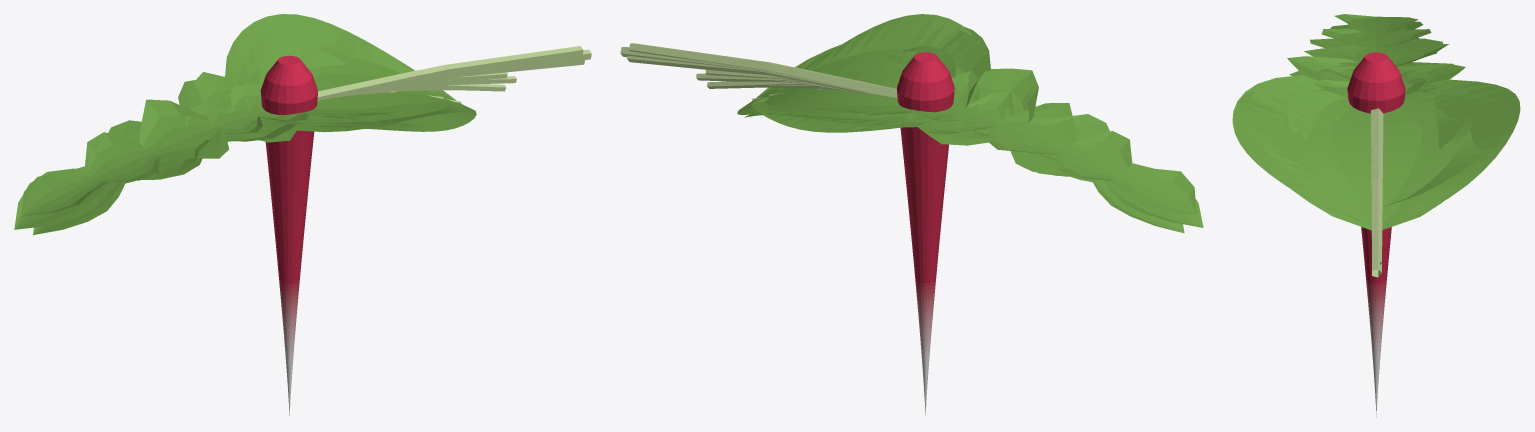
The model's file is radish_harvest_v09.articulated.glb.
The picture shows the model from 3 angles, left to right: view 1: azimuth 30°, elevation 25°; view 2: azimuth 150°, elevation 25°; view 3: azimuth 270°, elevation 25°; orthographic projection.
Parts seen in each view (by area): view 1: leaf05_link2, root, leaf00_link2, leaf02_link2, leaf04_link2, leaf00_link0, leaf01_link2, leaf05_link0, leaf03_link2, leaf01_link0, leaf02_link1, leaf02_link0 (+1 smaller); view 2: leaf05_link2, root, leaf00_link2, leaf02_link2, leaf04_link2, leaf01_link2, leaf05_link0, leaf01_link0, leaf02_link0, leaf02_link1, leaf00_link0, leaf03_link2; view 3: leaf05_link2, leaf00_link2, root, leaf02_link2, leaf01_link2, leaf04_link2, leaf05_link0, leaf03_link2, leaf01_link0.
Part boxes in pixels (x1,y1,x2,y2): leaf05_link2: (21,35,460,216); root: (260,55,317,415); leaf00_link2: (14,14,476,229); leaf02_link2: (33,22,424,234); leaf04_link2: (202,41,375,134); leaf00_link0: (317,49,591,100); leaf01_link2: (186,48,395,141); leaf05_link0: (319,46,583,97); leaf03_link2: (125,73,391,183); leaf01_link0: (317,69,426,97); leaf02_link1: (376,84,506,93); leaf02_link0: (370,60,584,93); leaf05_link2: (751,14,1196,214); root: (897,52,954,415); leaf00_link2: (737,26,1203,227); leaf02_link2: (744,30,1184,233); leaf04_link2: (799,49,1056,162); leaf01_link2: (804,46,1056,160); leaf05_link0: (629,43,885,96); leaf01_link0: (696,60,897,98); leaf02_link0: (627,55,875,94); leaf02_link1: (707,81,848,90); leaf00_link0: (620,47,879,95); leaf03_link2: (855,51,1092,182); leaf05_link2: (1239,14,1488,207); leaf00_link2: (1232,21,1520,224); root: (1347,52,1405,417); leaf02_link2: (1244,38,1508,230); leaf01_link2: (1287,61,1464,149); leaf04_link2: (1280,60,1475,144); leaf05_link0: (1371,136,1383,264); leaf03_link2: (1295,77,1436,139); leaf01_link0: (1371,108,1383,170).
Bounding box in the file's own units: 0.3308 × 0.1963 × 0.1421.
1 material, 1 textured.
